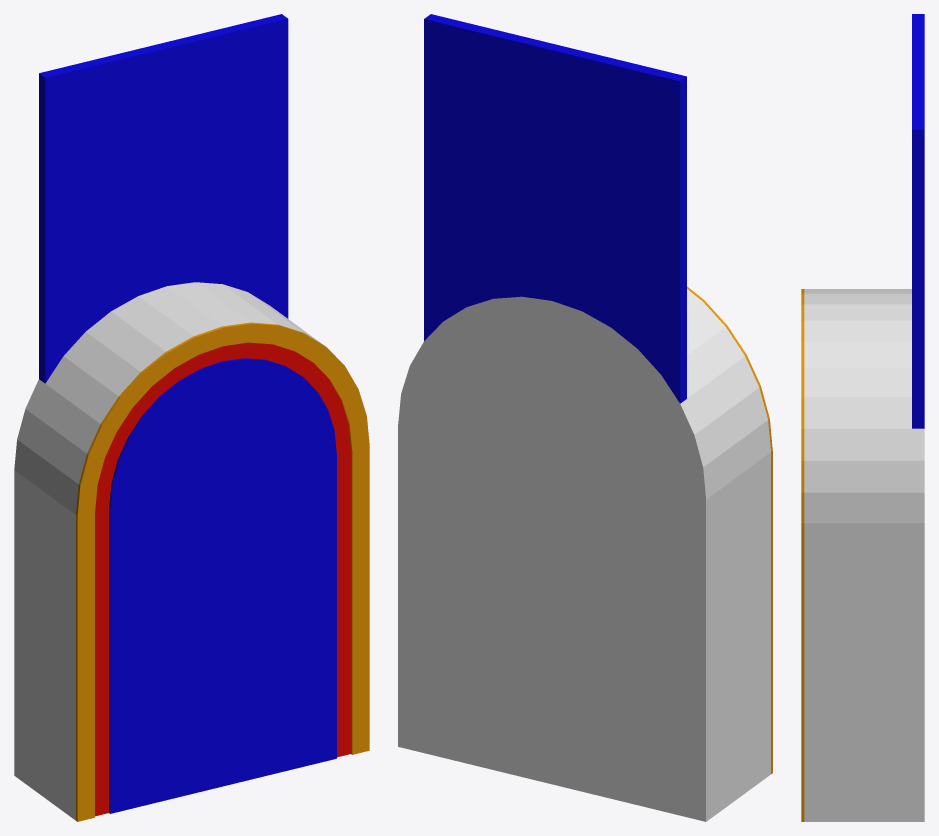
The model's file is Pedestal2.fbx.
3 renders of one model, left to right at view 1: azimuth 30°, elevation 25°; view 2: azimuth 150°, elevation 25°; view 3: azimuth 270°, elevation 25°, orthographic. The views are drawn at different scales.
Parts seen in each view (by area): view 1: Cylinder; view 2: Cylinder; view 3: Cylinder.
Boxes of the visible parts, bbox=[...] form: Cylinder: bbox=[14, 14, 369, 821]; Cylinder: bbox=[398, 14, 772, 821]; Cylinder: bbox=[801, 14, 924, 821].
Bounding box in the file's own units: 200 × 456 × 75.
